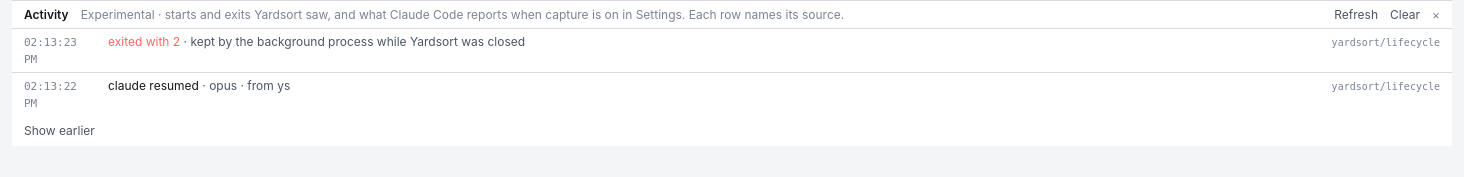
Test case: ActivityPanel › shows the newest events with their source, and pages back through earlier ones
Check: the number of list items is 2, box [12,29,1452,73]; [12,73,1452,116]
Check: the list item that starts with "02:13:23 PM" shows "exited with 2", box [108,34,180,49]
Click the button "Show earlier": [59, 130] box [12,116,1452,146]
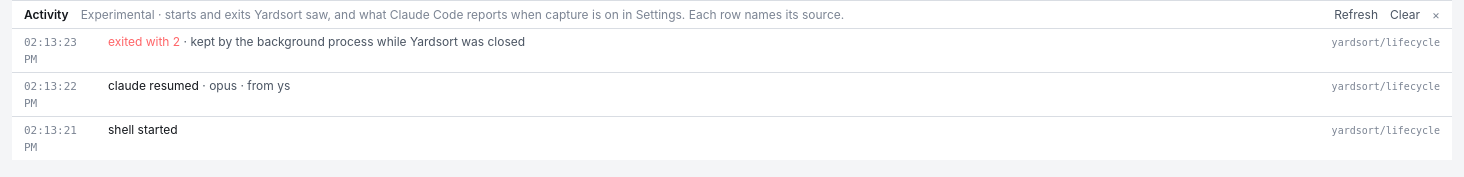
Check: the number of list items is 3, box [12,29,1452,73]; [12,73,1452,117]; [12,117,1452,160]
Check: the list item "02:13:21 PM shell started yardsort/lifecycle" is shown, box [12,117,1452,160]
Check: the button "Show earlier" is gone
